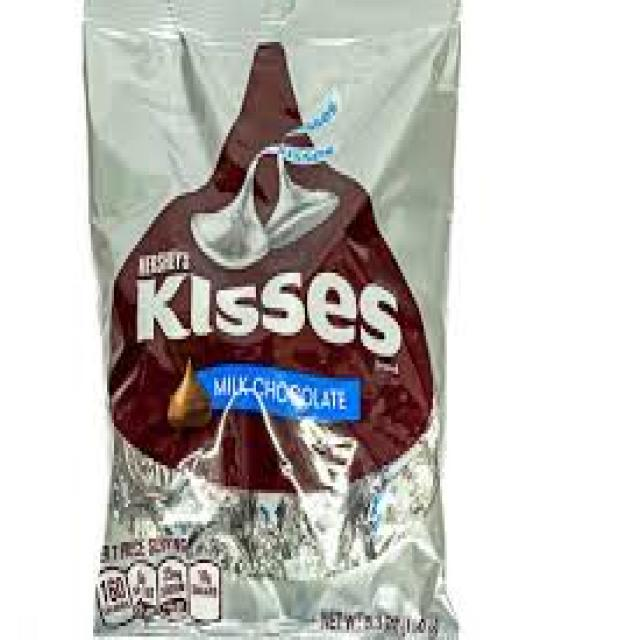kisses: (185, 145, 278, 279), (263, 138, 346, 258)
